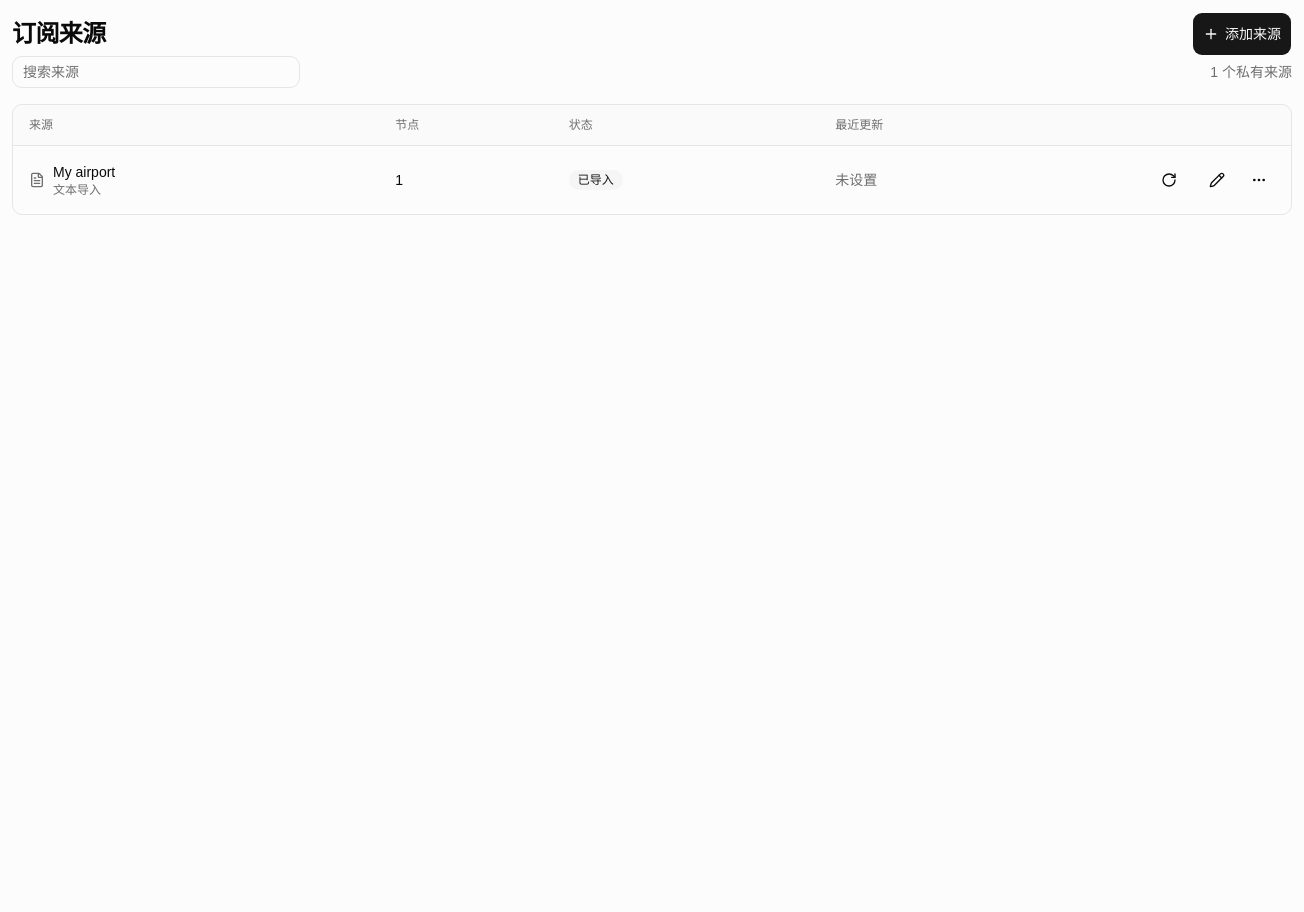
does not interrupt an unchanged refresh with a review dialog
Click the button named "刷新 My airport": (1169, 180) [1147,158,1191,202]
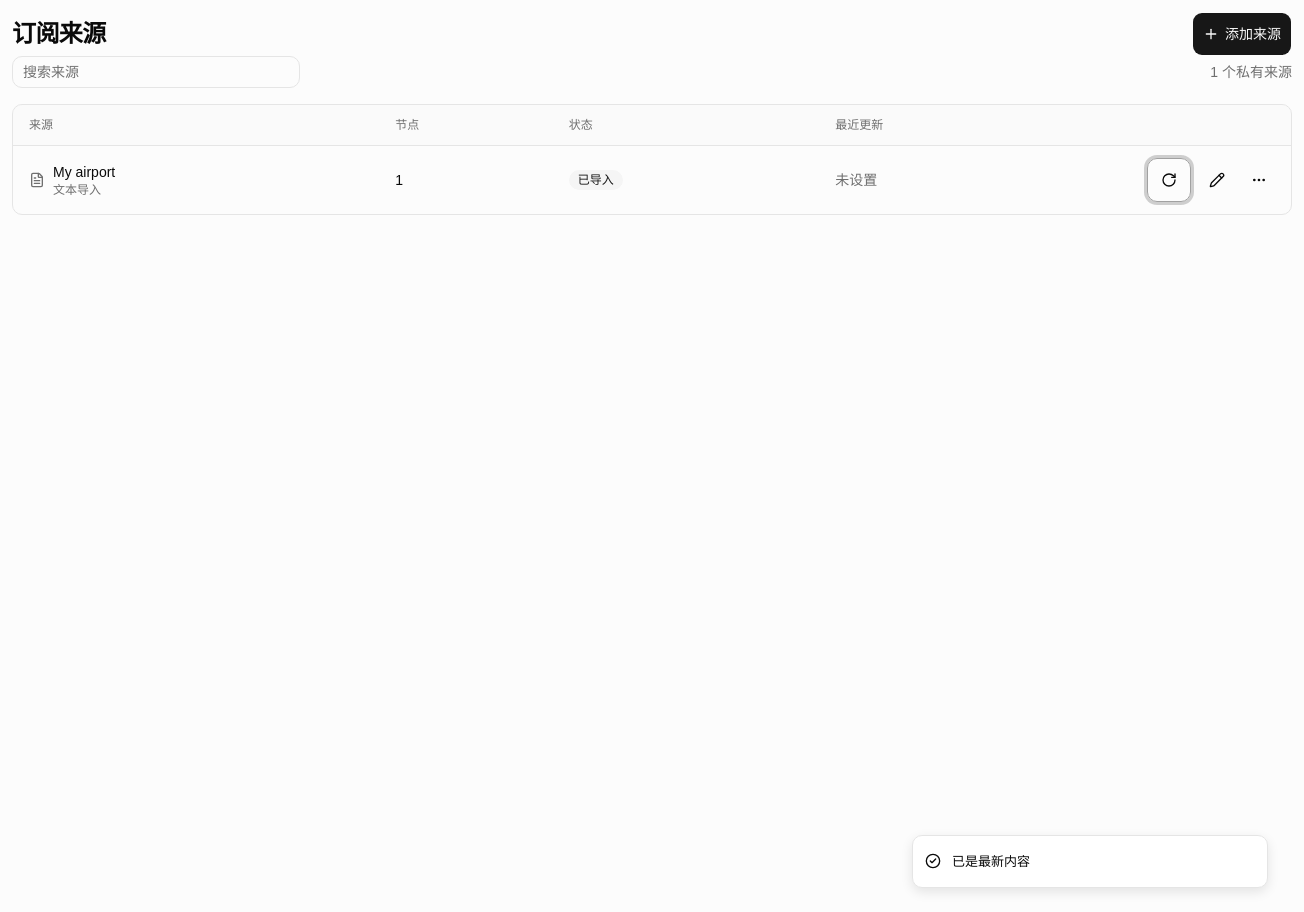
expect the text "已是最新内容" is shown: met, box [952,852,1030,871]
